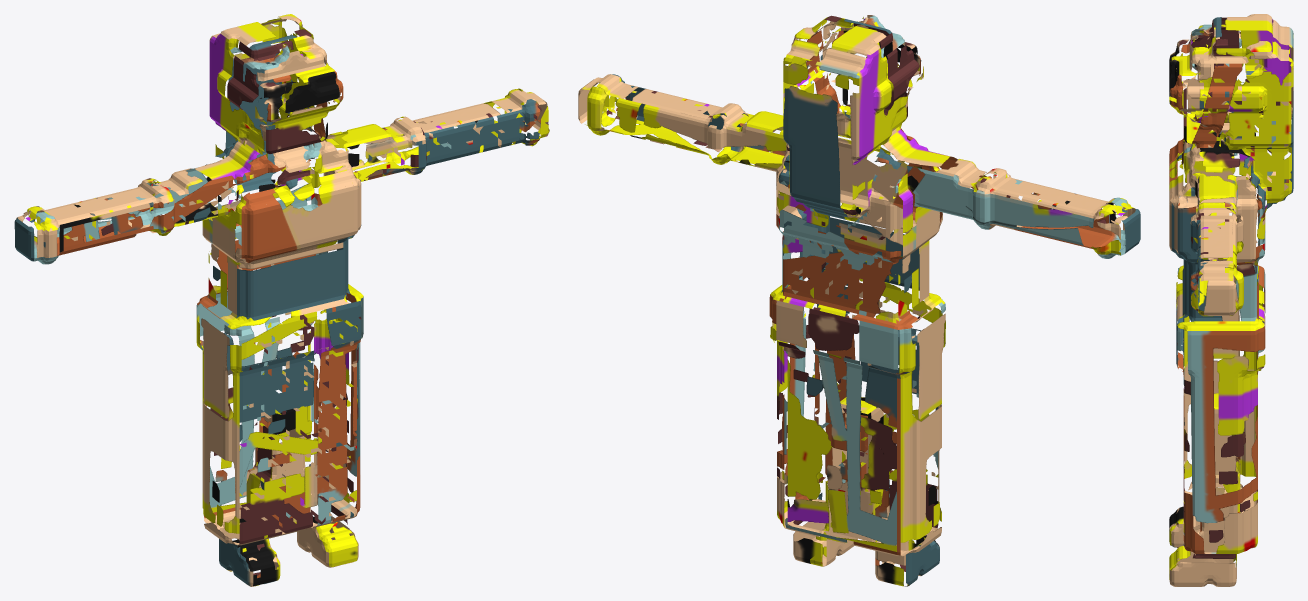
Rendered from putri_sunda.fbx.
3 views of the same model, side by side, from view 1: azimuth 30°, elevation 25°; view 2: azimuth 150°, elevation 25°; view 3: azimuth 270°, elevation 25° (orthographic). The views are drawn at different scales.
Size of the model in its own units: 8.62 by 8.22 by 1.74.
